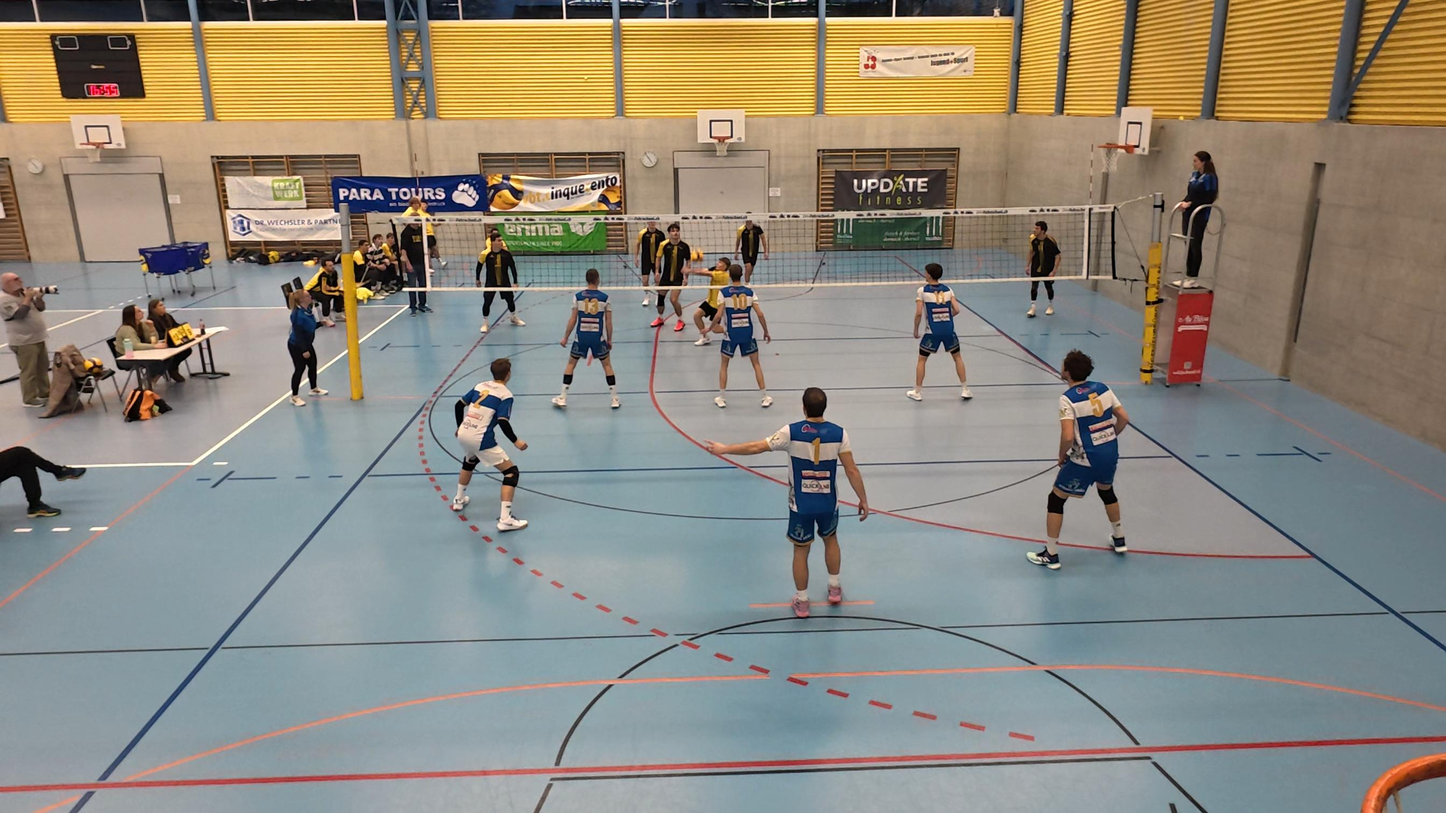Player: (724, 387, 867, 617), (1029, 349, 1131, 569), (451, 356, 529, 532), (709, 262, 774, 409), (555, 270, 620, 410), (908, 262, 972, 404), (648, 221, 691, 337), (483, 239, 524, 330), (634, 218, 670, 319), (1025, 222, 1062, 317), (734, 214, 766, 283)
Set: (685, 251, 726, 347)
ball: (689, 247, 705, 264)
